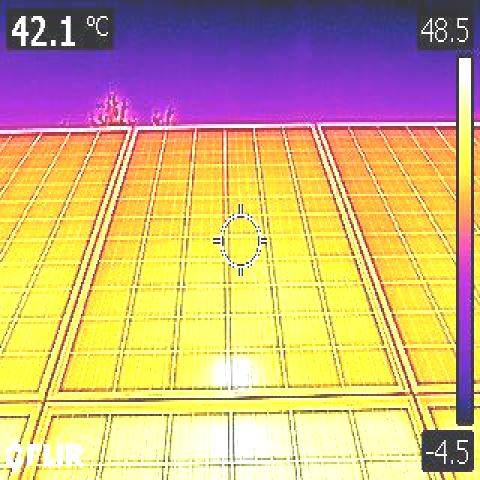fault: (231, 349, 255, 385), (215, 358, 226, 387)
